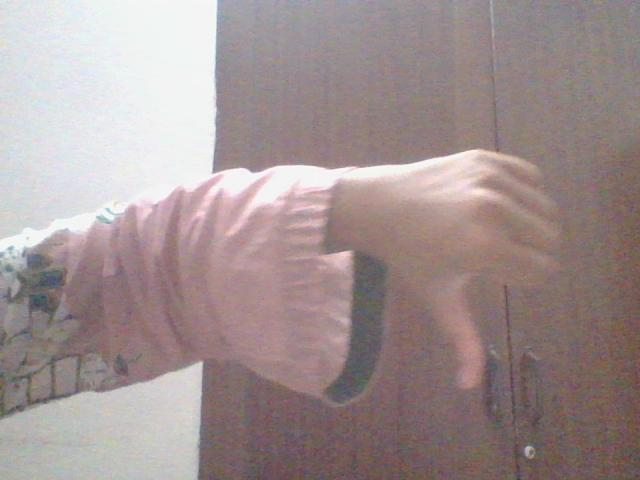thumbs-down: (383, 147, 560, 404)
